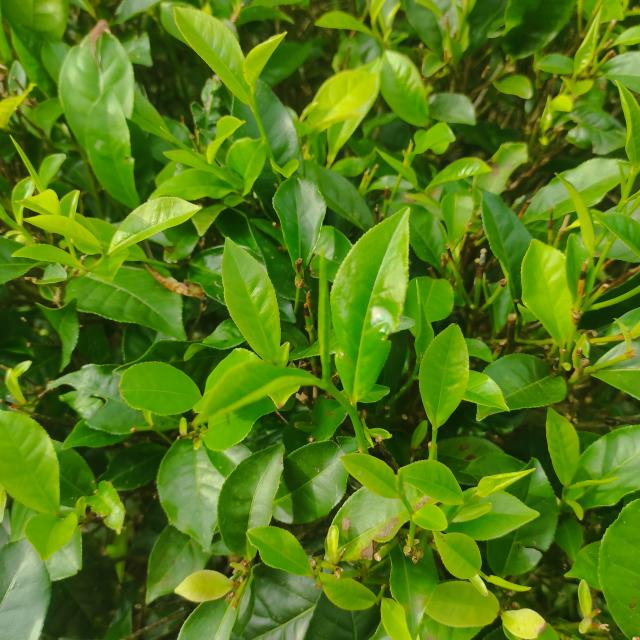unopened_leaf: (309, 238, 336, 383), (7, 128, 46, 194), (482, 572, 536, 596), (565, 473, 622, 495)
